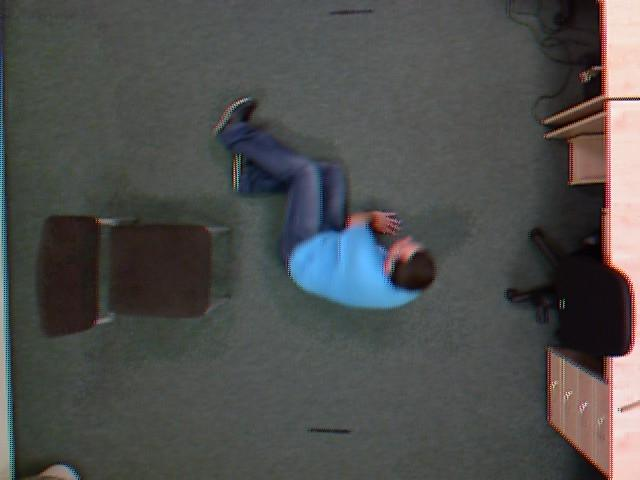fall: (201, 103, 452, 325)
